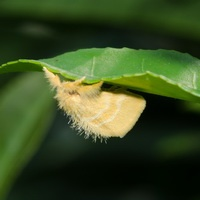insect: (43, 67, 145, 141)
